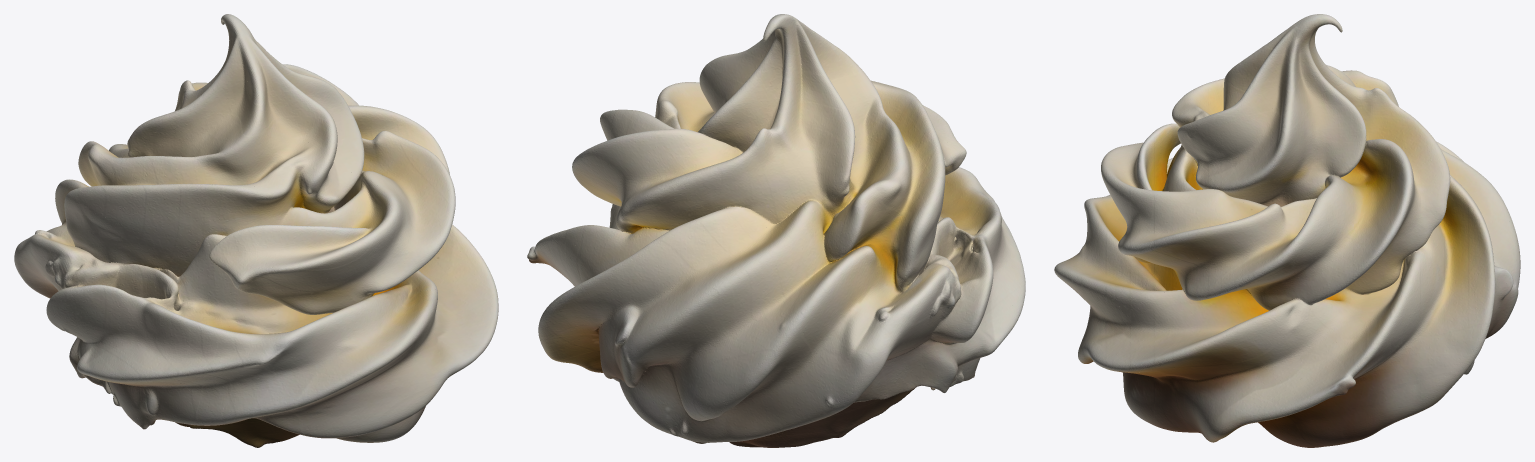
Rendered from topping_cream.glb.
The picture shows the model from 3 angles, left to right: view 1: azimuth 30°, elevation 25°; view 2: azimuth 150°, elevation 25°; view 3: azimuth 270°, elevation 25°; orthographic projection. The views are drawn at different scales.
Parts seen in each view (by area): view 1: tripo_node_15c106bb-0000-45a5-bc36-f1ce87342fd3; view 2: tripo_node_15c106bb-0000-45a5-bc36-f1ce87342fd3; view 3: tripo_node_15c106bb-0000-45a5-bc36-f1ce87342fd3.
Part boxes in pixels (left/top/right/bottom): tripo_node_15c106bb-0000-45a5-bc36-f1ce87342fd3: left=14, top=14, right=498, bottom=447; tripo_node_15c106bb-0000-45a5-bc36-f1ce87342fd3: left=527, top=14, right=1025, bottom=447; tripo_node_15c106bb-0000-45a5-bc36-f1ce87342fd3: left=1054, top=14, right=1520, bottom=447.
Bounding box in the file's own units: 1 × 0.9221 × 0.9961.
Materials: 1 (1 with a texture image).
